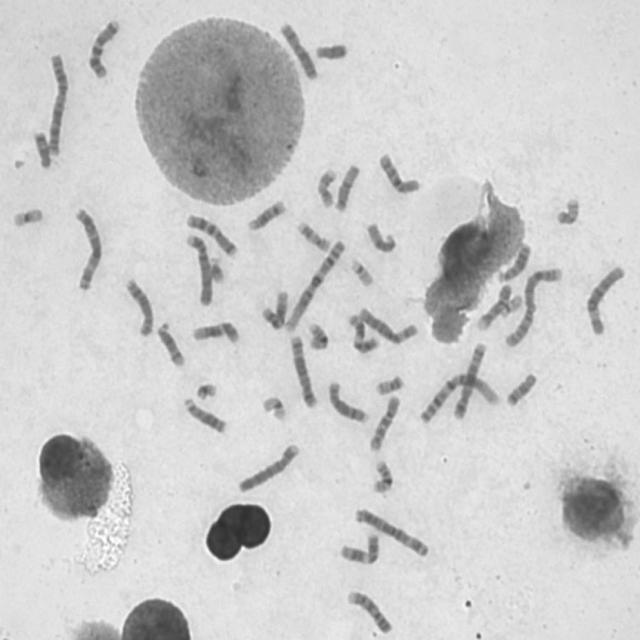A1: (282, 236, 348, 334), (416, 370, 501, 426)
A2: (501, 264, 565, 349), (43, 49, 70, 158)
A3: (351, 504, 431, 560), (70, 204, 104, 292)
B4: (235, 440, 301, 495), (182, 229, 214, 308)
B5: (451, 338, 488, 422), (286, 331, 319, 410)
C10: (366, 392, 402, 454), (376, 150, 422, 196)
C11: (336, 528, 381, 566), (345, 311, 381, 354)
C12: (258, 286, 291, 332), (188, 318, 241, 345)
C6: (583, 262, 627, 337), (356, 303, 419, 346)
C7: (182, 210, 239, 259), (84, 15, 122, 80)
C8: (324, 378, 370, 425), (122, 275, 156, 338)
C9: (344, 587, 394, 635), (474, 280, 514, 332)
D13: (180, 395, 228, 435), (493, 239, 532, 284)
D14: (154, 319, 186, 369), (245, 196, 288, 232)
D15: (331, 160, 361, 214), (363, 218, 398, 254)
E16: (370, 457, 394, 495), (304, 320, 330, 351)
E17: (294, 217, 332, 253), (314, 165, 338, 209)
E18: (504, 369, 538, 408), (29, 127, 52, 170)
F19: (9, 203, 45, 230), (259, 393, 288, 422)
F20: (553, 194, 581, 226), (373, 372, 405, 396)
G21: (206, 252, 226, 284), (192, 379, 218, 402)
G22: (346, 255, 375, 288), (496, 291, 525, 319)
X: (276, 18, 319, 82)
Y: (312, 40, 349, 62)
